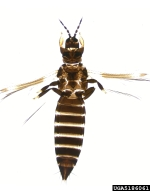Thrips: (14, 4, 137, 176)
